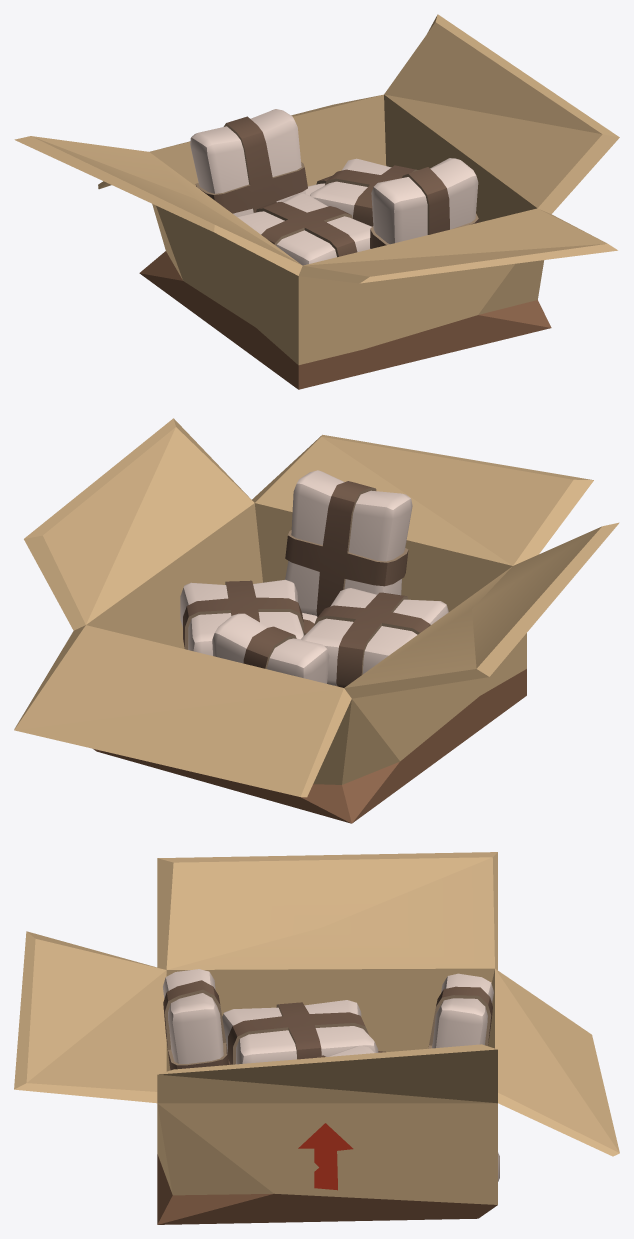
File: CocaineBox.fbx
3 views of the same model, one above another, from view 1: azimuth 30°, elevation 25°; view 2: azimuth 150°, elevation 25°; view 3: azimuth 270°, elevation 25° (orthographic). The views are drawn at different scales.
Visible parts, largest first — view 1: pCube210; view 2: pCube210; view 3: pCube210.
Part boxes in pixels (x1,y1,x2,y2): pCube210: (14,14,619,389); pCube210: (14,418,619,823); pCube210: (14,852,619,1224).
Size of the model in its own units: 10.83 by 4.31 by 11.9.
Materials: 1 (1 with a texture image).
